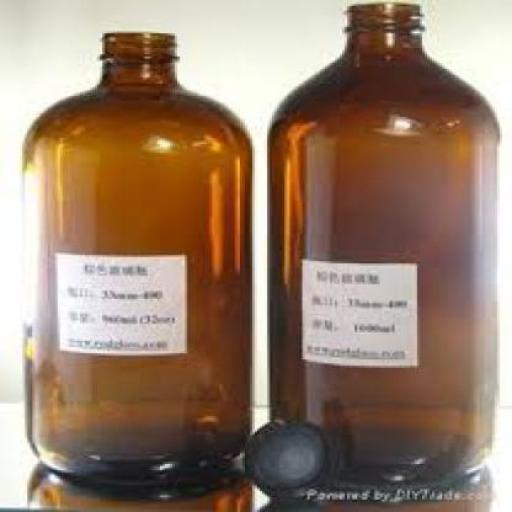glass: (267, 2, 492, 495), (25, 32, 252, 496)
plastic: (240, 416, 335, 495)
